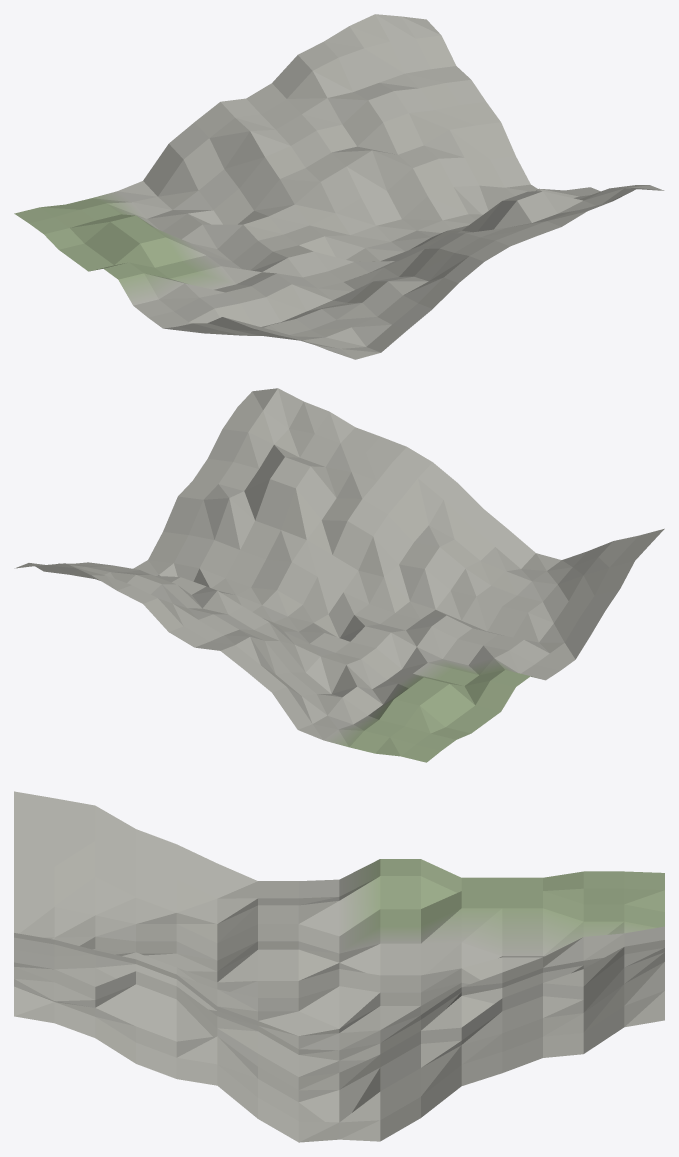
3 renders of one model, top to bottom at view 1: azimuth 30°, elevation 25°; view 2: azimuth 150°, elevation 25°; view 3: azimuth 270°, elevation 25°, orthographic. The views are drawn at different scales.
Bounding box in the file's own units: 32 × 9.31 × 32.
